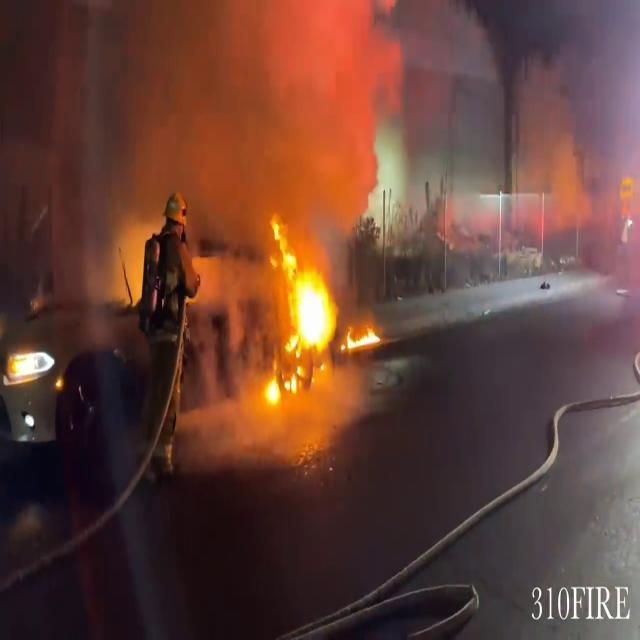Fire: (252, 215, 372, 397)
Smoke: (57, 1, 399, 270)
